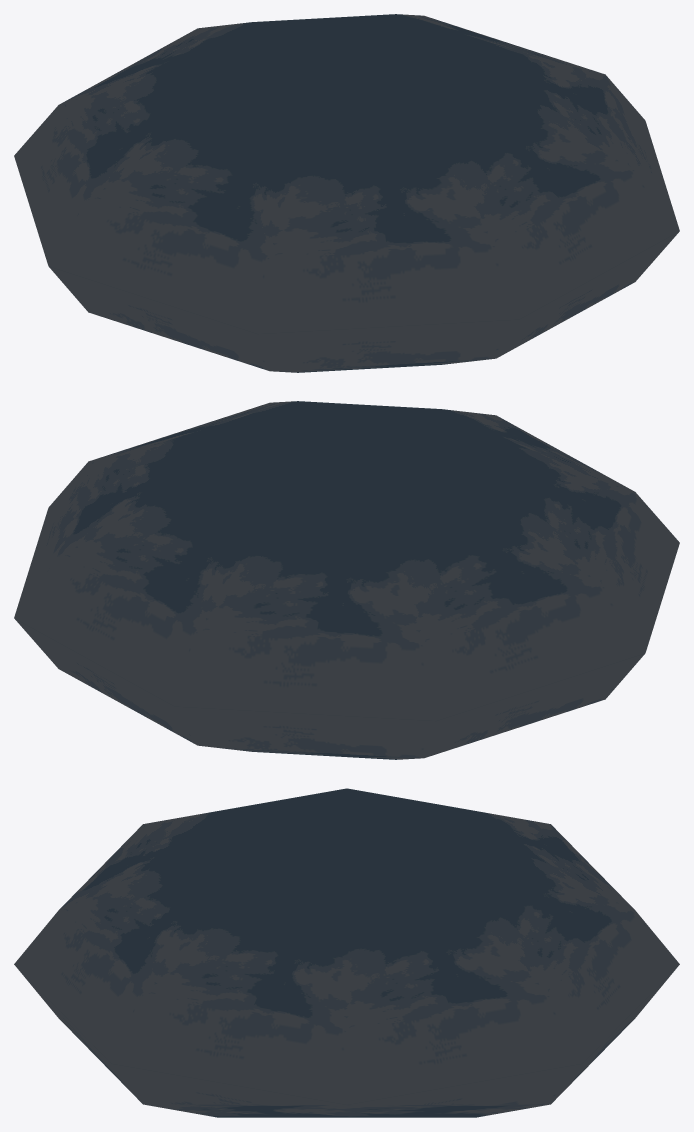
The picture shows the model from 3 angles, top to bottom: view 1: azimuth 30°, elevation 25°; view 2: azimuth 150°, elevation 25°; view 3: azimuth 270°, elevation 25°; orthographic projection. The views are drawn at different scales.
Bounding box in the file's own units: 125001 × 44429 × 125001.
Materials: 34 (34 with a texture image).
